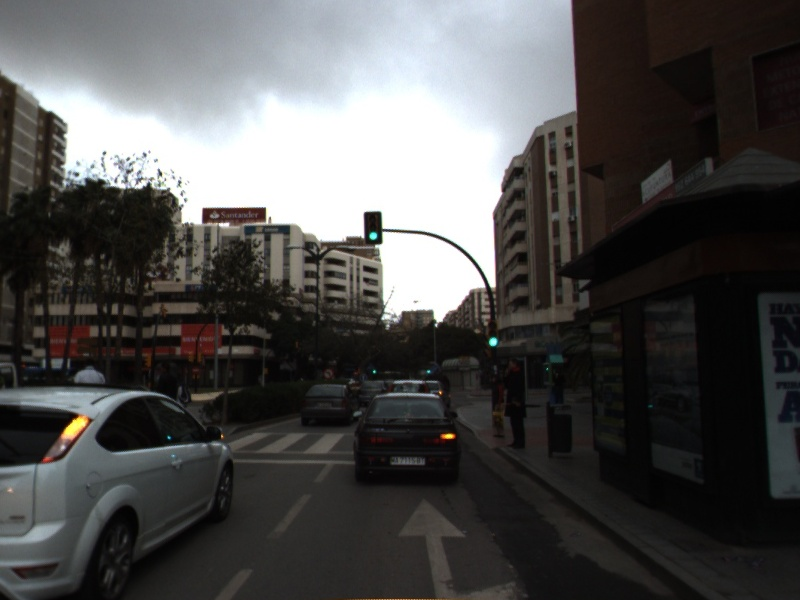STRAIGHT_RIGHT: (394, 494, 539, 600)
